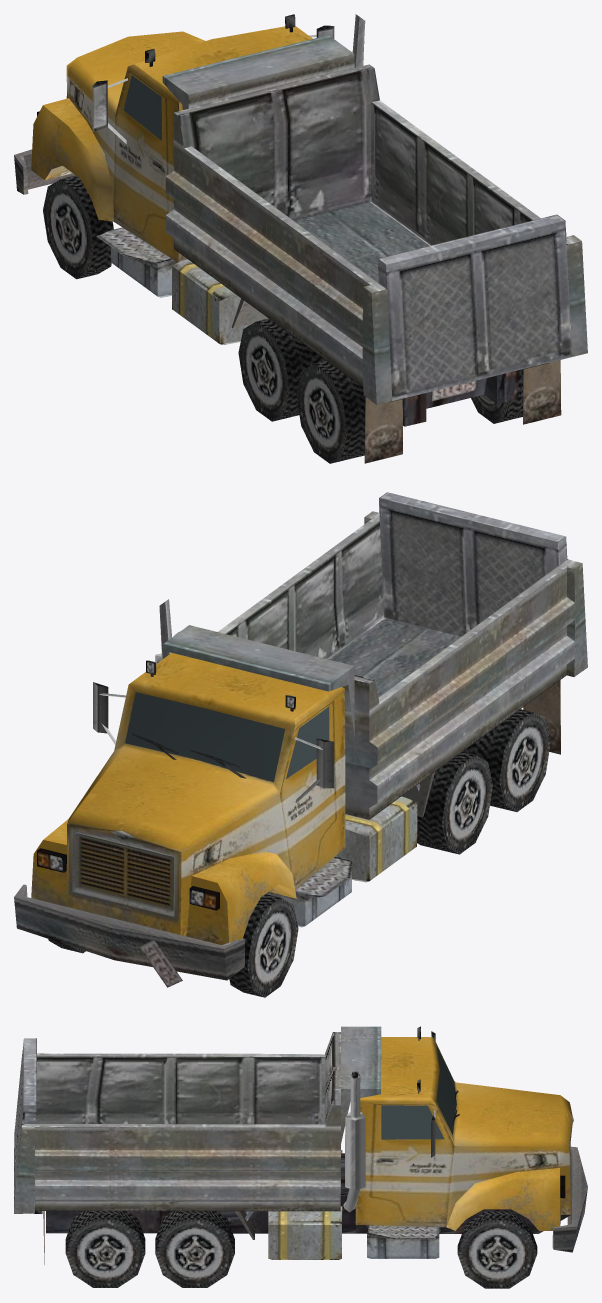
Rendered from p54_15_dump_truck_yellow.glb.
3 views of the same model, one above another, from view 1: azimuth 30°, elevation 25°; view 2: azimuth 150°, elevation 25°; view 3: azimuth 270°, elevation 25° (orthographic). The views are drawn at different scales.
Parts seen in each view (by area): view 1: Body, Glass; view 2: Body, Glass; view 3: Body, Glass.
Part boxes in pixels (box(x1,y1,x2,y2)): Body: box(14, 14, 587, 463); Glass: box(123, 75, 161, 140); Body: box(14, 492, 587, 997); Glass: box(125, 692, 329, 782); Body: box(14, 1026, 587, 1288); Glass: box(381, 1046, 456, 1139).
Size of the model in its own units: 2.66 by 2.91 by 7.06.
2 materials, 2 textured.
